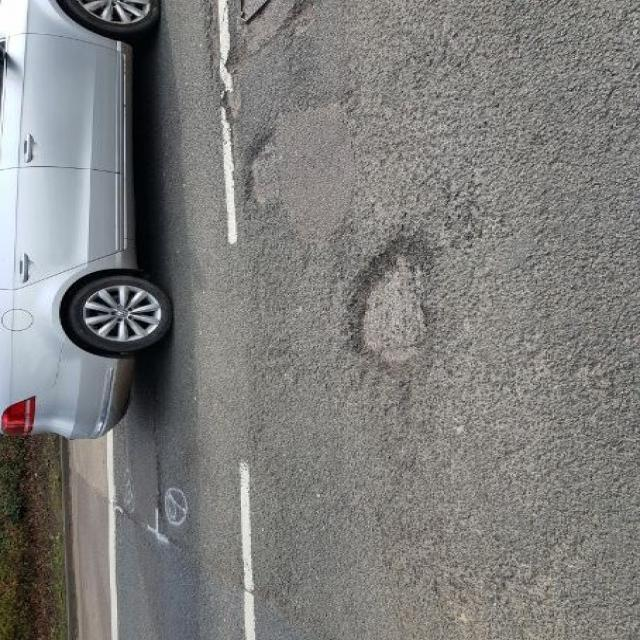pothole: (337, 228, 457, 374), (234, 122, 305, 212), (275, 0, 326, 32)
